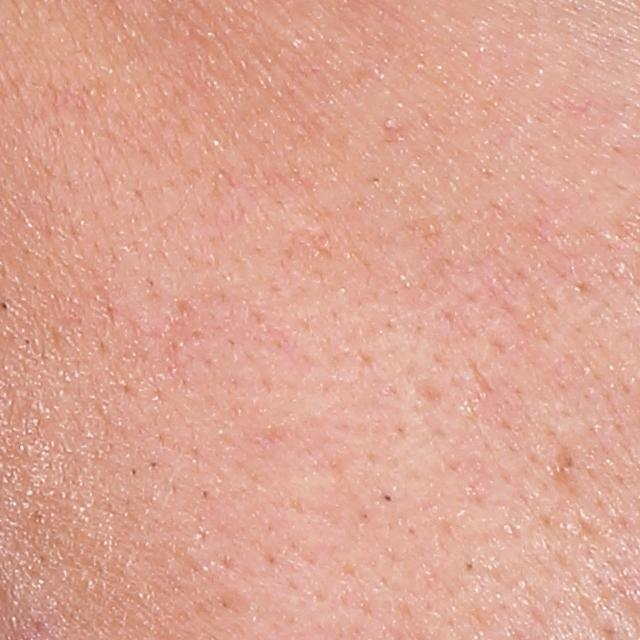comedo: (380, 489, 401, 508)
